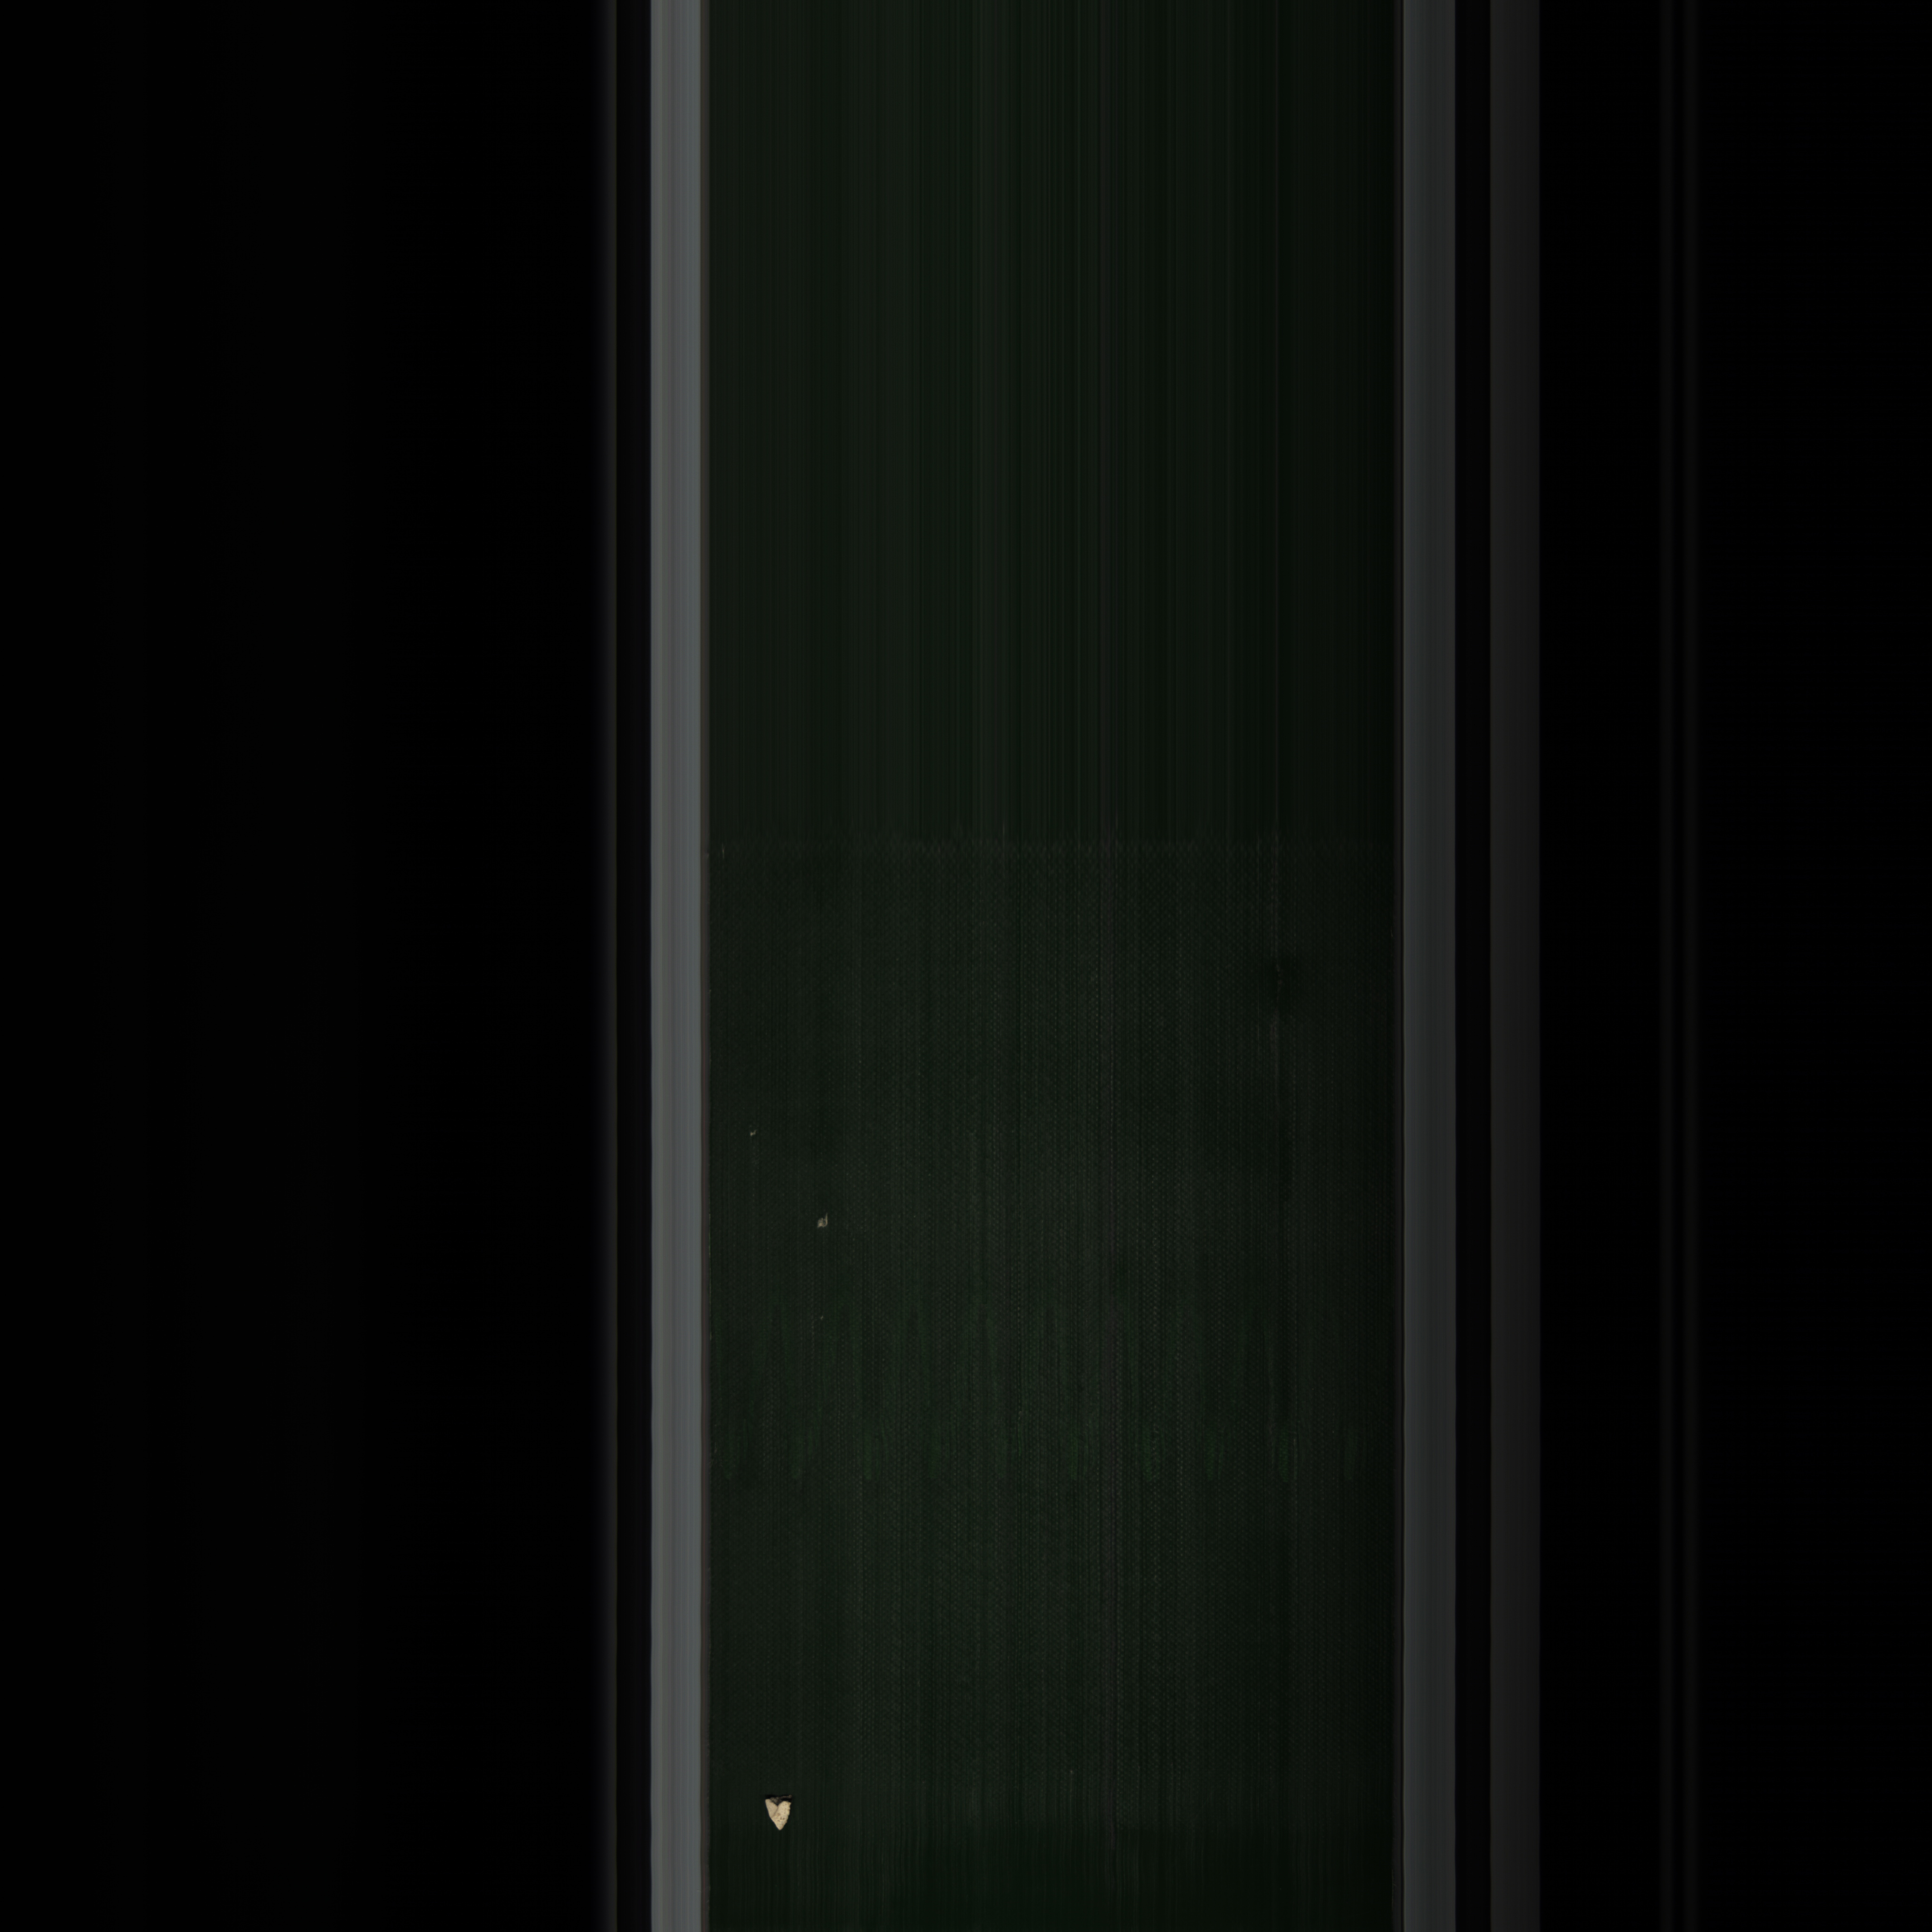dreg: (754, 1787, 807, 1847)
